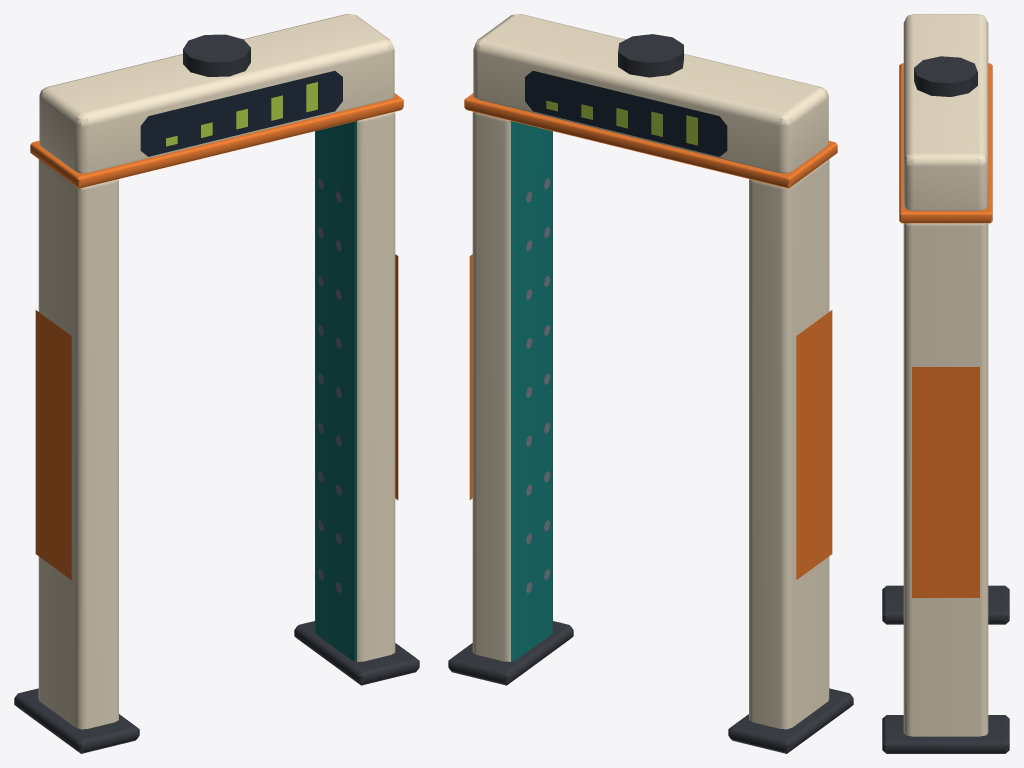
File: ArcoSeguridad.fbx
The picture shows the model from 3 angles, left to right: view 1: azimuth 30°, elevation 25°; view 2: azimuth 150°, elevation 25°; view 3: azimuth 270°, elevation 25°; orthographic projection. The views are drawn at different scales.
Visible parts, largest first — view 1: ArcoSeguridad; view 2: ArcoSeguridad; view 3: ArcoSeguridad.
Boxes of the visible parts, x1,y1,x2,y2 form: ArcoSeguridad: (14, 14, 419, 753); ArcoSeguridad: (448, 14, 853, 753); ArcoSeguridad: (882, 14, 1009, 753).
Size of the model in its own units: 4.4 by 7.88 by 1.5.
1 material, 1 textured.
